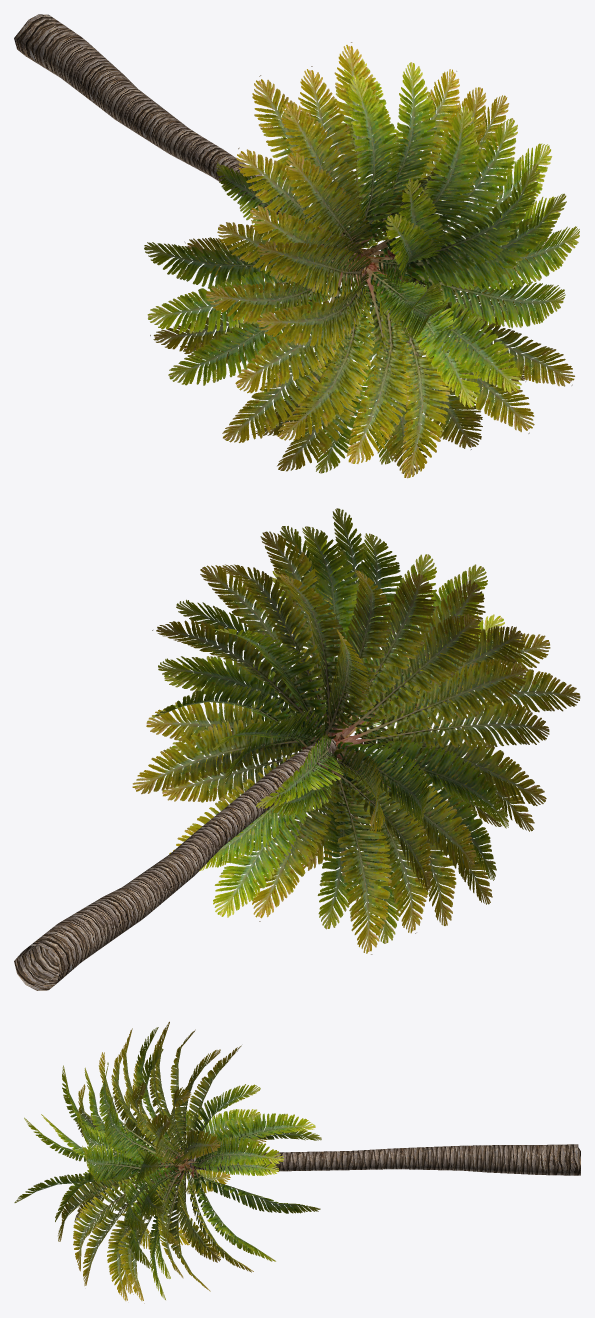
3 views of the same model, one above another, from view 1: azimuth 30°, elevation 25°; view 2: azimuth 150°, elevation 25°; view 3: azimuth 270°, elevation 25° (orthographic). The views are drawn at different scales.
Parts seen in each view (by area): view 1: palm.001_Palm_Hamza_0; view 2: palm.001_Palm_Hamza_0; view 3: palm.001_Palm_Hamza_0.
Boxes of the visible parts, box(x1,y1,x2,y2) form: palm.001_Palm_Hamza_0: box(14, 14, 579, 478); palm.001_Palm_Hamza_0: box(14, 508, 580, 990); palm.001_Palm_Hamza_0: box(14, 1021, 580, 1303).
Size of the model in its own units: 3.68 by 3.63 by 7.16.
Materials: 1 (1 with a texture image).
